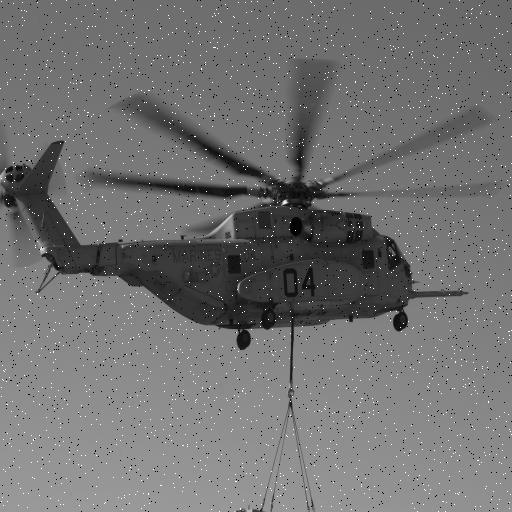helicopter: (1, 56, 510, 369)
